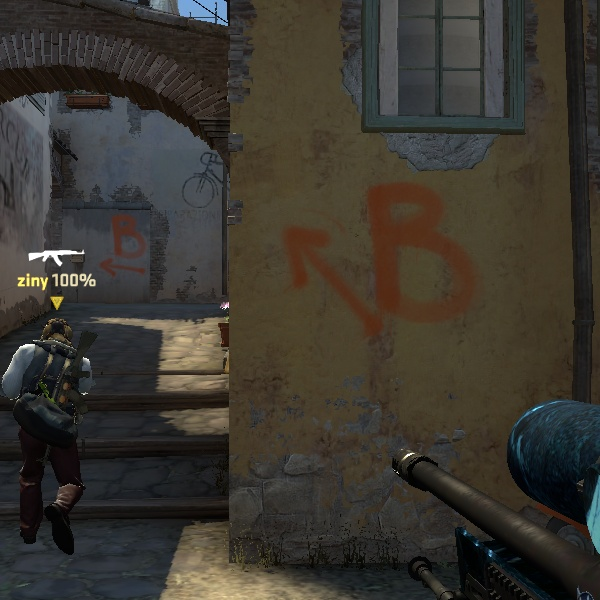ct_head: (32, 311, 80, 355)
t_body: (3, 303, 110, 554)
